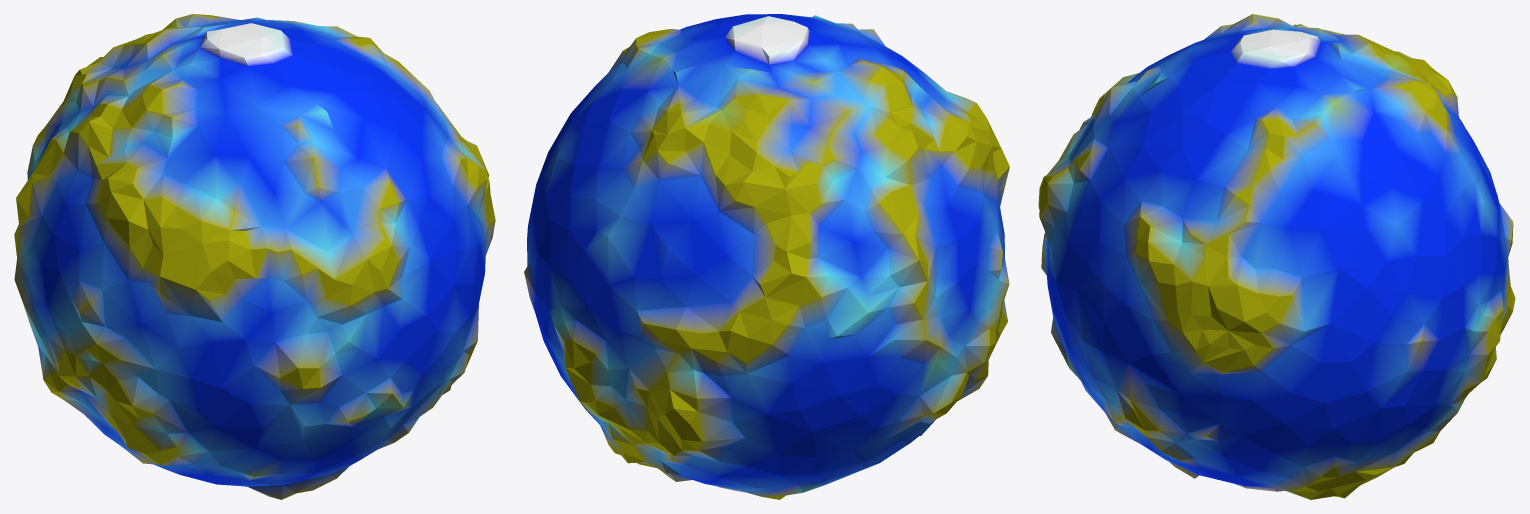
File: planet_54.fbx
3 renders of one model, left to right at view 1: azimuth 30°, elevation 25°; view 2: azimuth 150°, elevation 25°; view 3: azimuth 270°, elevation 25°, orthographic. The views are drawn at different scales.
Parts seen in each view (by area): view 1: file1; view 2: file1; view 3: file1.
Boxes of the visible parts, x1,y1,x2,y2 form: file1: (14, 14, 495, 499); file1: (524, 14, 1009, 499); file1: (1038, 14, 1515, 499).
Bounding box in the file's own units: 2.08 × 2.06 × 2.07.
